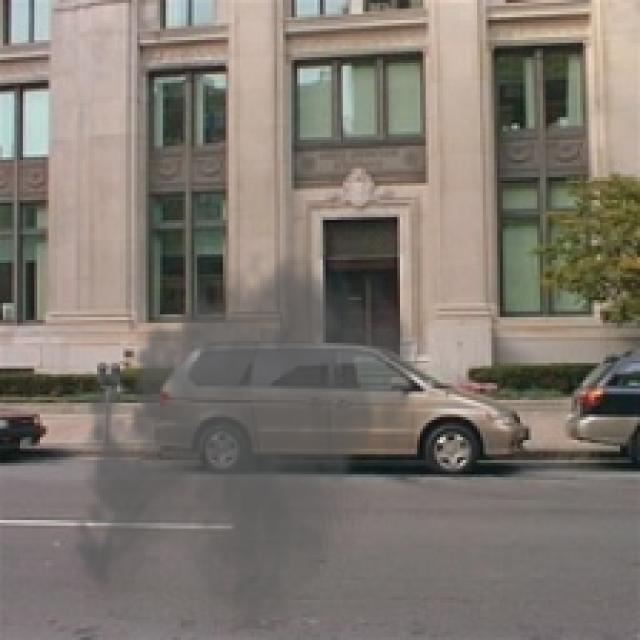smoke: (63, 237, 423, 629)
